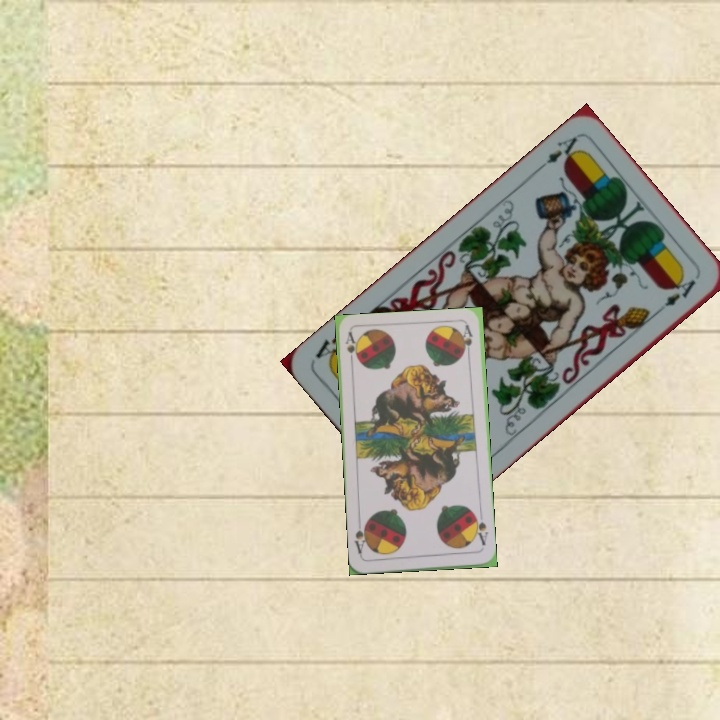EA: (532, 132, 583, 175)
SA: (341, 329, 360, 370), (470, 511, 491, 548)
